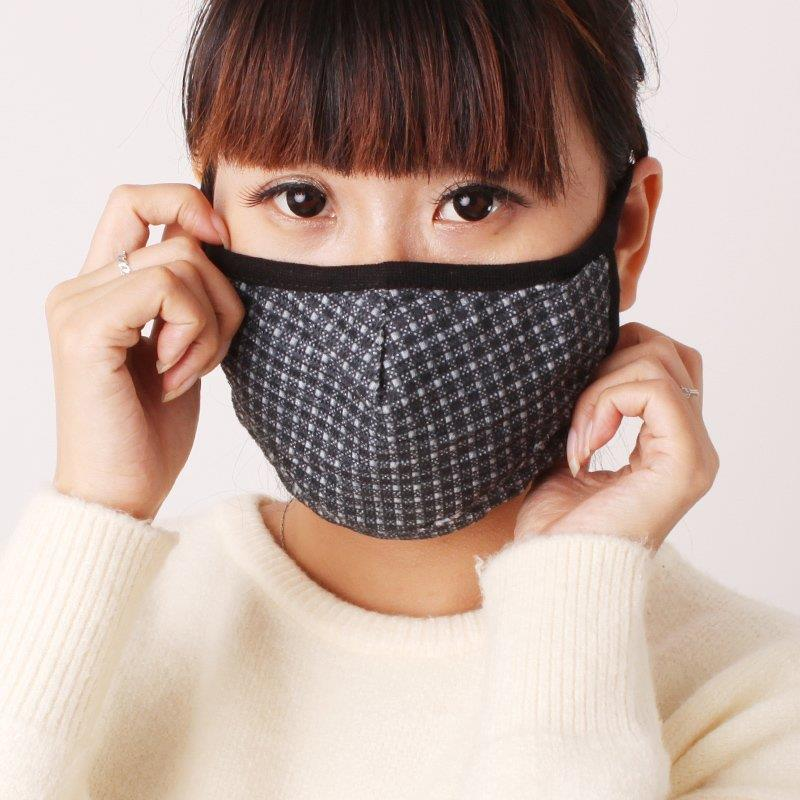face_mask: (228, 20, 599, 511)
